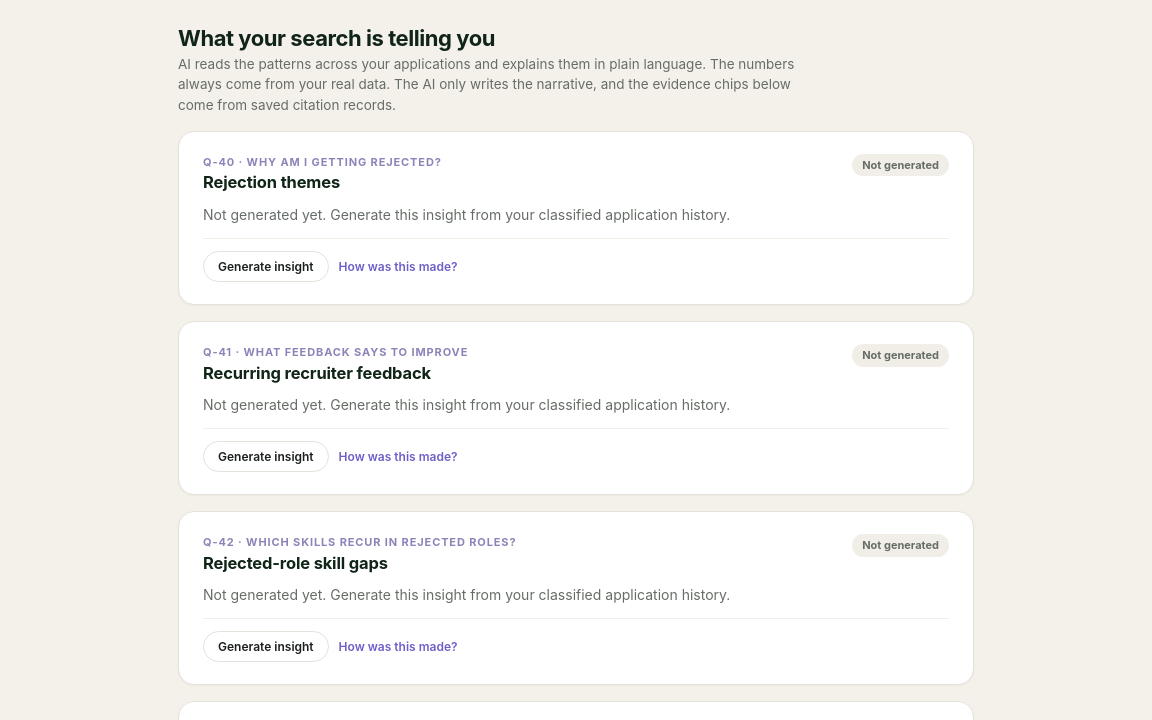
Test: InsightsPage › generates the first insight from an empty cache
This screenshot has width=1152, height=720.
Check: the heading "Rejection themes" is shown, box [203,172,340,192]
Click the button "Generate insight" below "Rejection themes". click: click(266, 267)
box: [203,251,329,282]
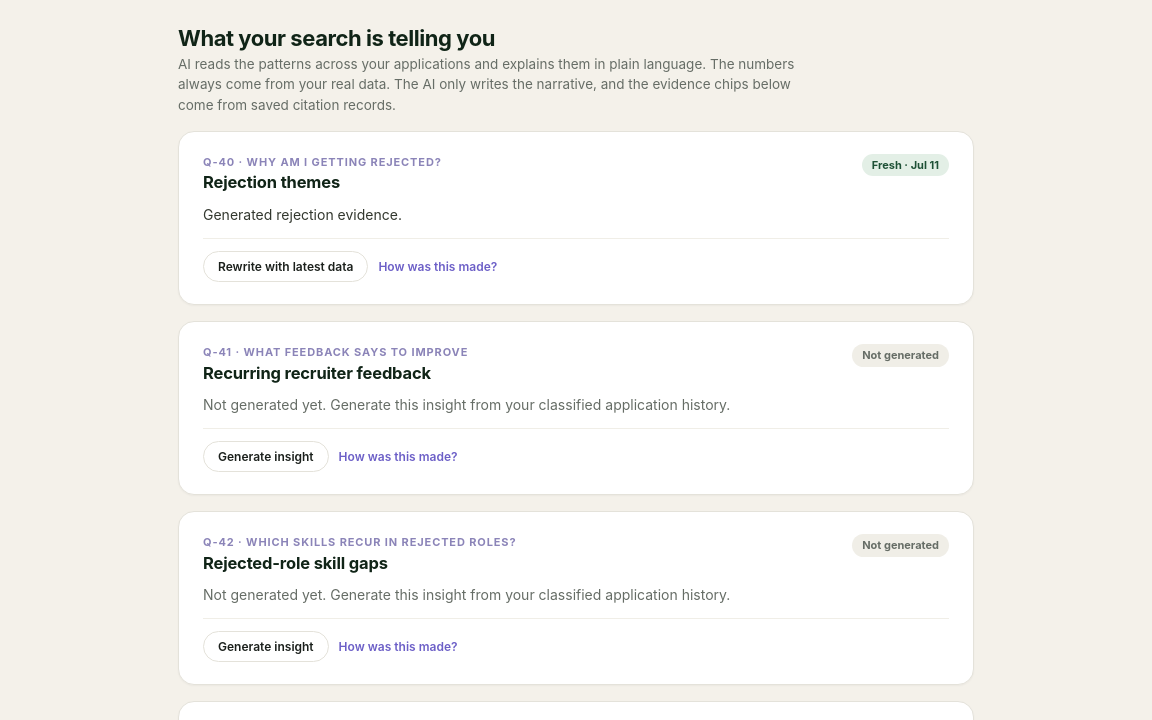
Check: the text "Generated rejection evidence." is shown, box [203,206,402,223]
